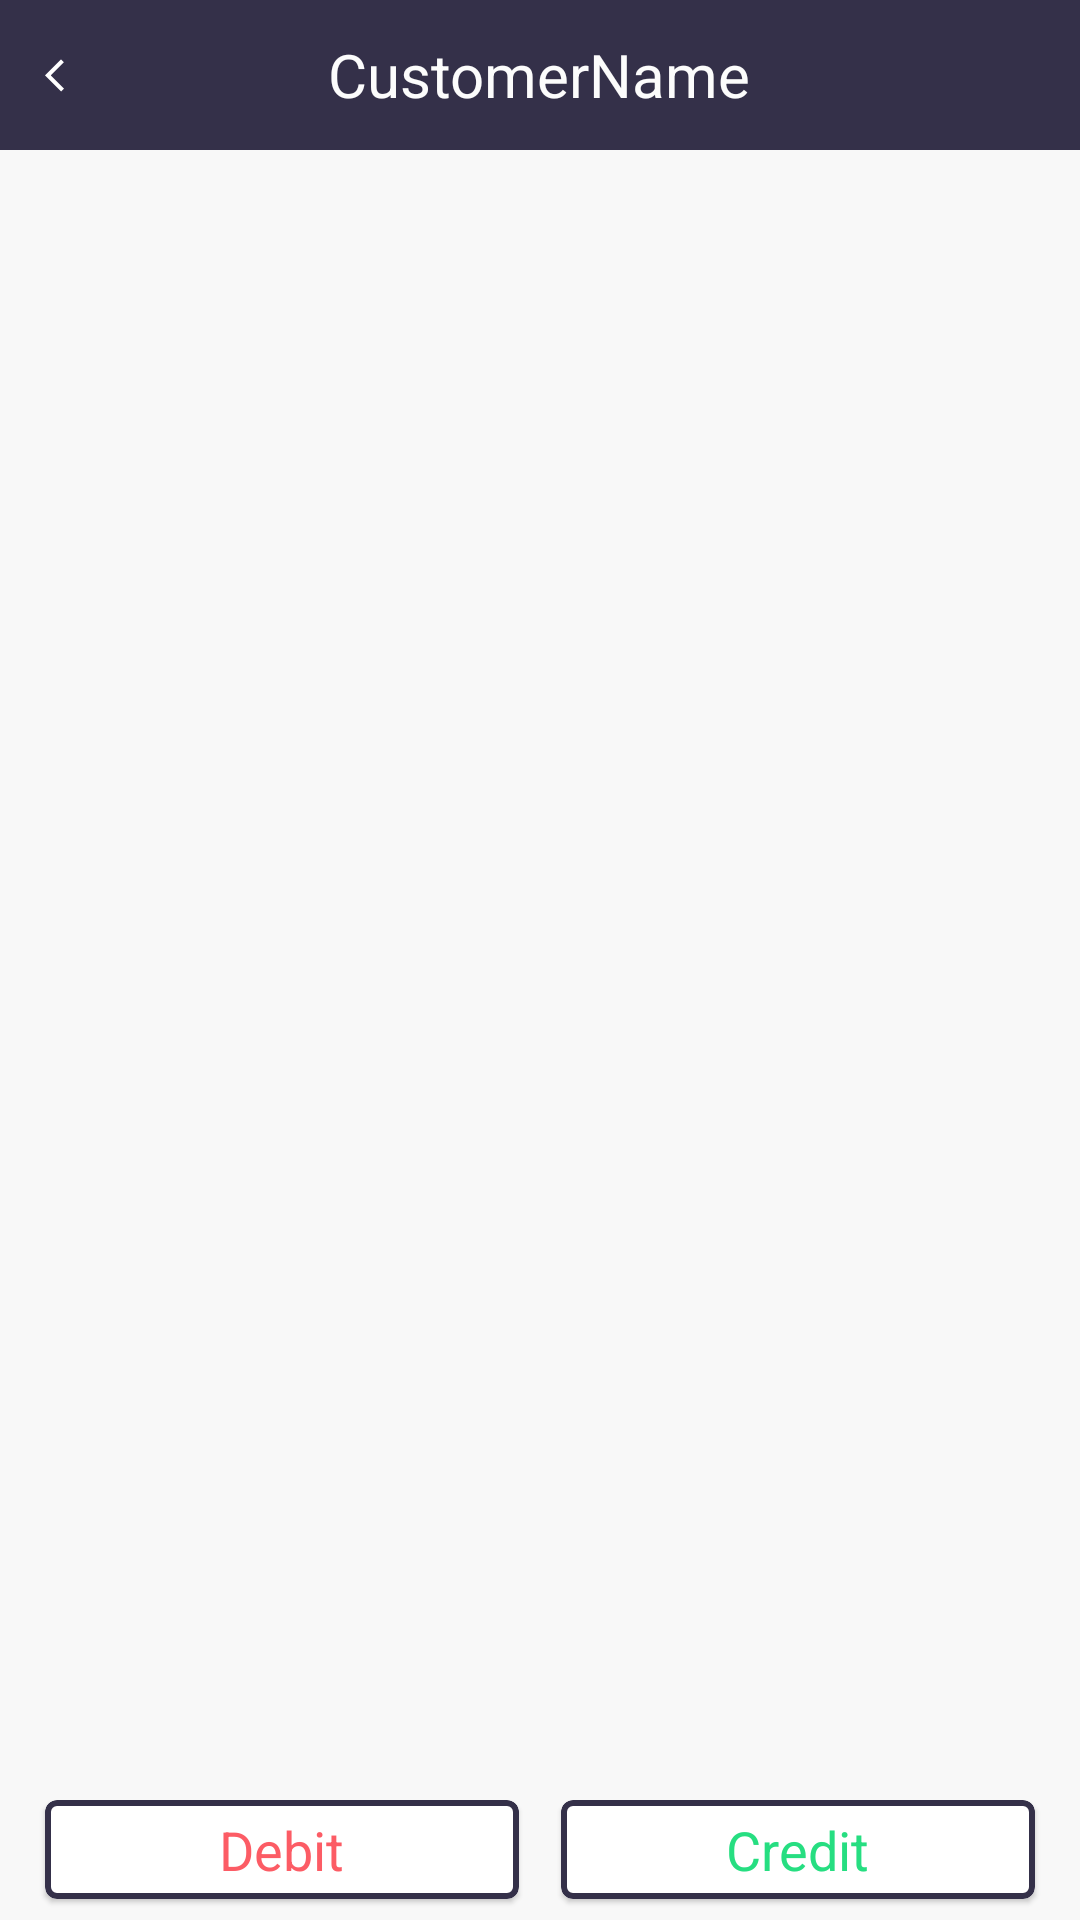

Icon click points for this 1080px x 1920px phone screenshot, format [x,y]:
arrow back: [54,75]
